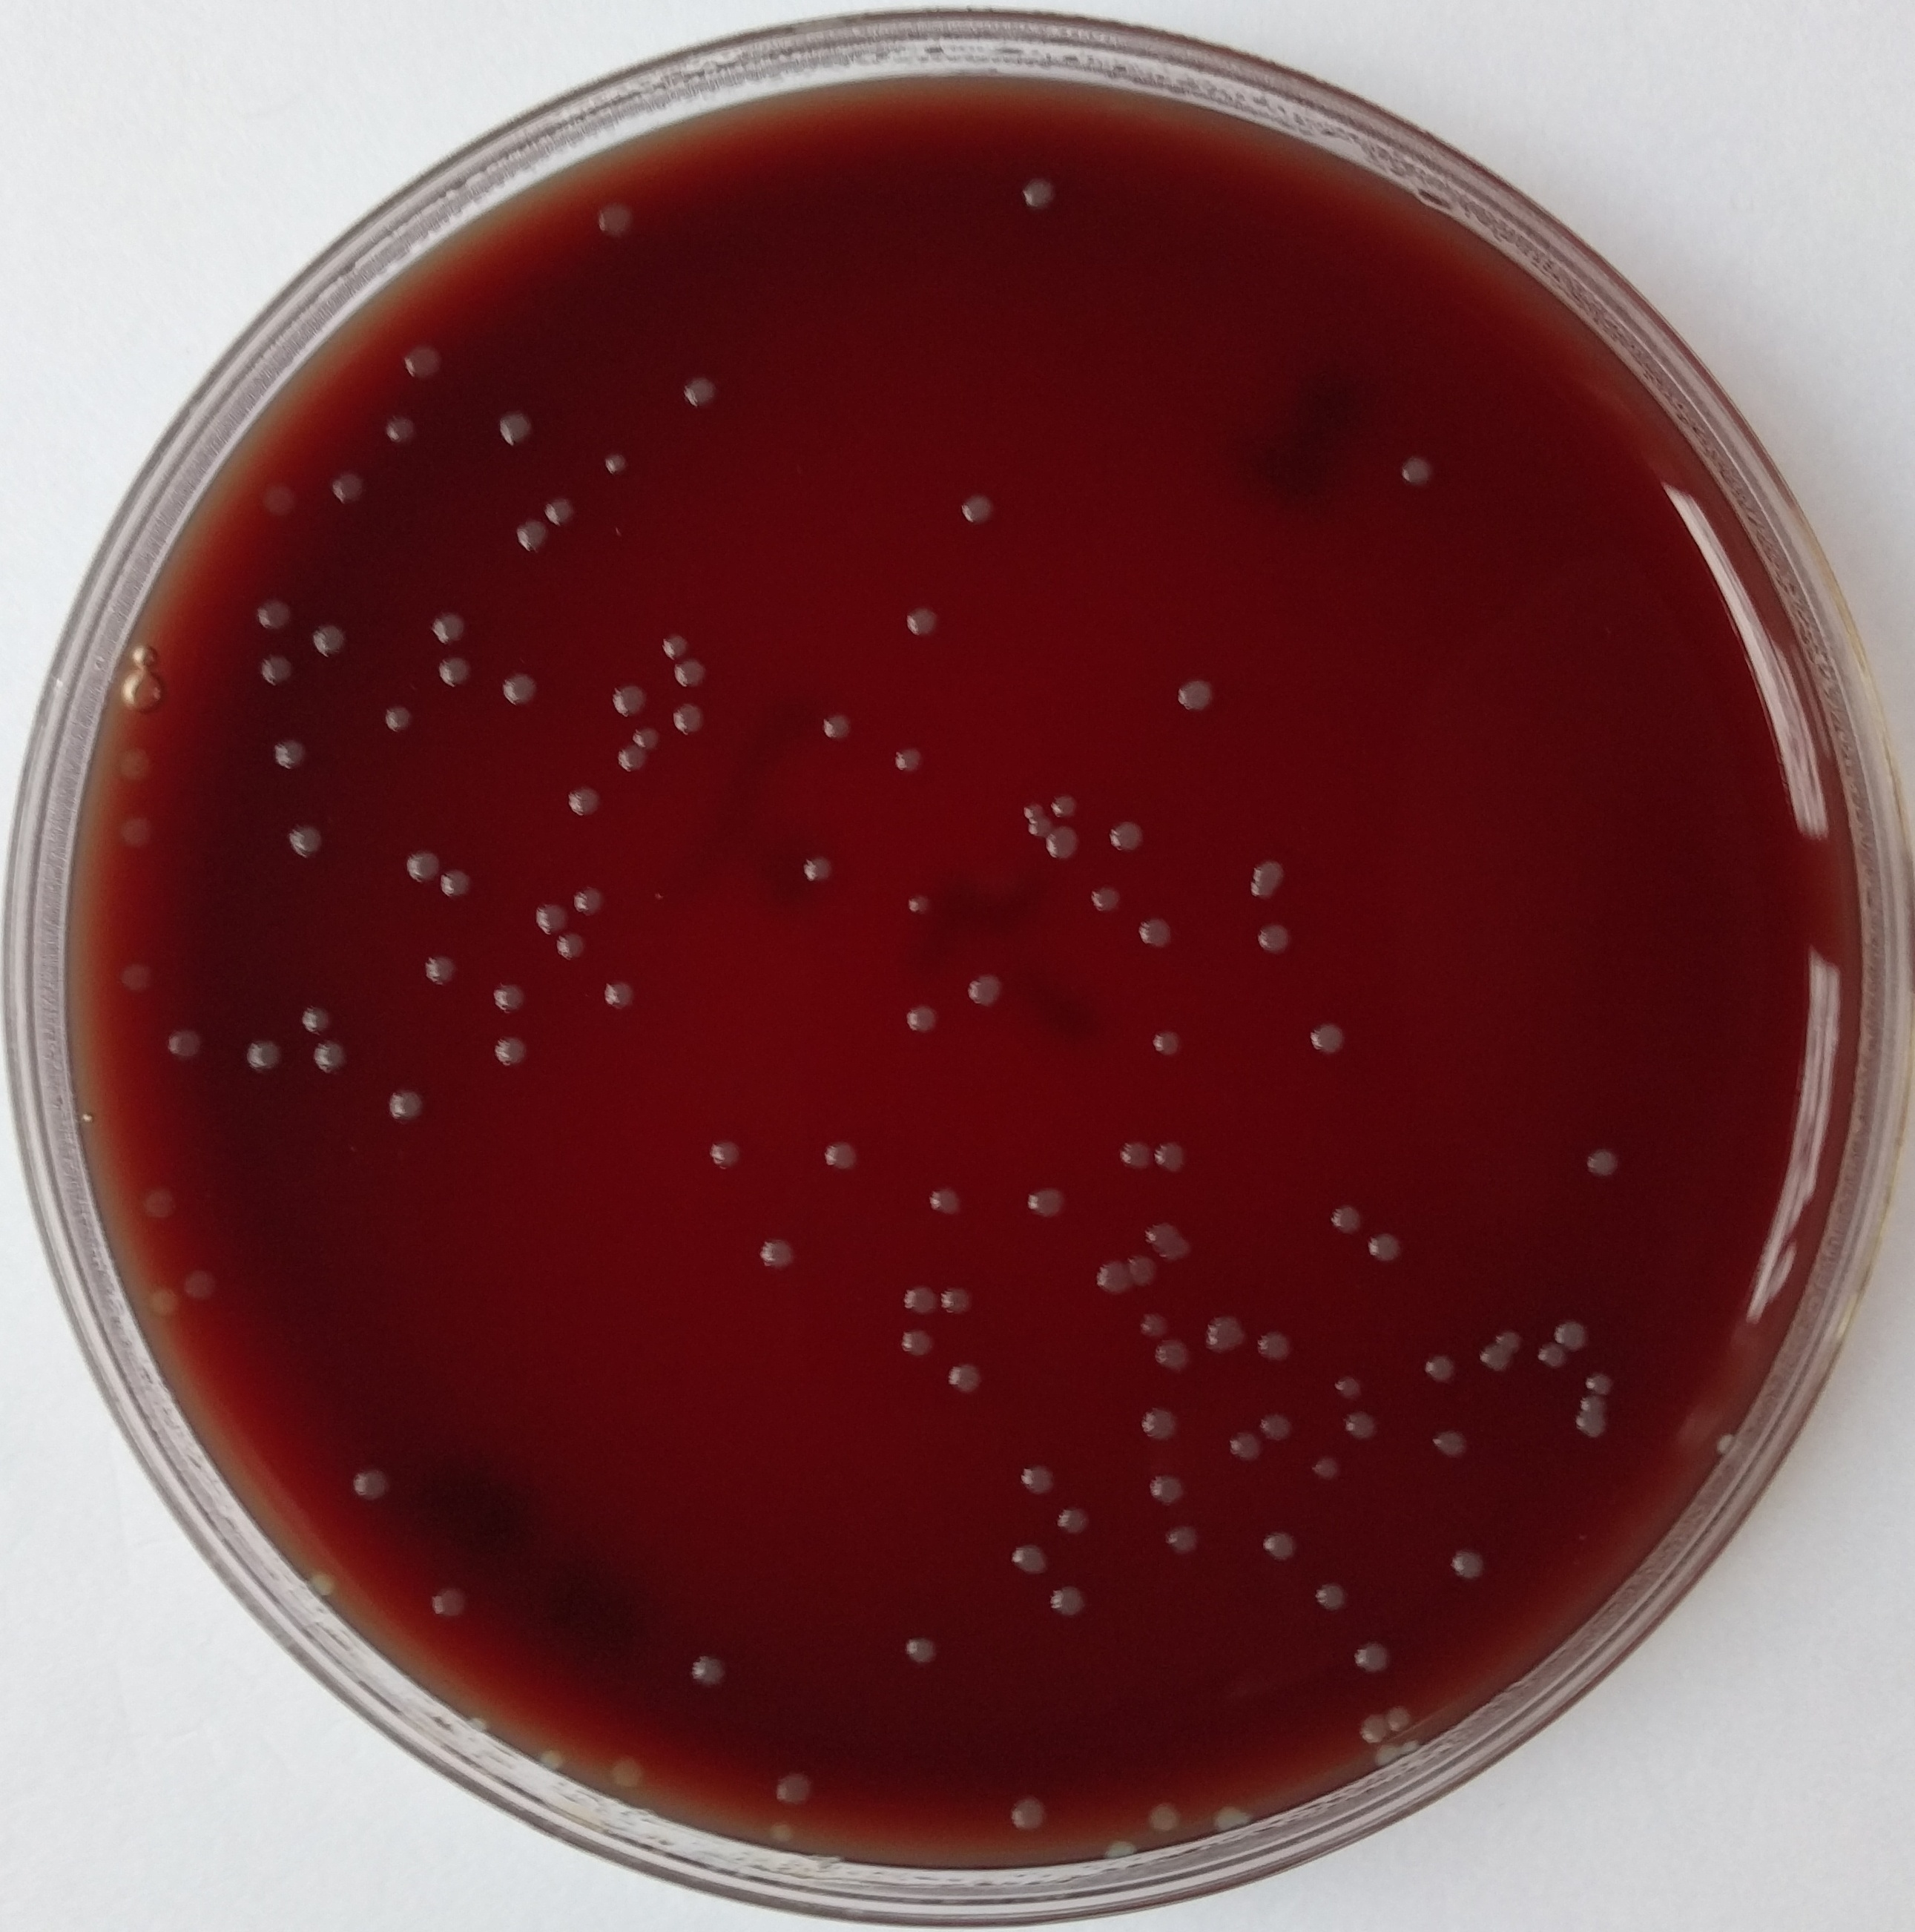sp15: (675, 366, 733, 428), (1140, 1217, 1203, 1273), (1236, 854, 1299, 906), (900, 594, 956, 652), (1243, 1318, 1298, 1376), (375, 1075, 433, 1127), (1201, 1306, 1250, 1367), (1000, 1781, 1054, 1836), (1021, 1176, 1075, 1229), (763, 1760, 817, 1811), (957, 959, 1007, 1015), (300, 617, 358, 664), (819, 1134, 872, 1185), (587, 198, 644, 245), (749, 1232, 808, 1276), (130, 1182, 181, 1232), (682, 1648, 733, 1699), (398, 338, 451, 387), (1084, 1254, 1136, 1303), (605, 1744, 658, 1793), (1389, 449, 1442, 498), (1168, 666, 1219, 715), (430, 650, 482, 698), (395, 843, 447, 891), (1105, 812, 1157, 859), (1010, 1455, 1063, 1502), (1420, 1424, 1475, 1469), (496, 666, 545, 715), (559, 780, 610, 827), (894, 1320, 945, 1367), (1347, 1634, 1398, 1681), (1015, 170, 1068, 216), (1003, 1534, 1056, 1580), (488, 403, 542, 447), (1354, 1220, 1408, 1264), (342, 1457, 391, 1504), (1136, 1397, 1184, 1446), (303, 1034, 354, 1080), (1299, 1019, 1354, 1061), (700, 1134, 756, 1175), (323, 463, 370, 510), (430, 863, 477, 910), (1256, 1522, 1303, 1569), (1442, 1543, 1489, 1590), (417, 948, 466, 994), (900, 996, 949, 1041), (426, 1578, 475, 1623), (1219, 1420, 1268, 1466), (524, 899, 575, 943), (1114, 1133, 1157, 1183), (1159, 1515, 1210, 1559), (1322, 1196, 1373, 1239), (160, 1026, 212, 1068), (891, 1276, 943, 1318), (1147, 1334, 1200, 1376), (933, 1278, 980, 1324), (114, 957, 163, 1001), (1131, 912, 1180, 955), (938, 1357, 987, 1401), (1140, 1466, 1191, 1508), (1338, 1403, 1389, 1445), (814, 705, 866, 745), (263, 733, 316, 773), (900, 1629, 943, 1676), (1142, 1793, 1189, 1837), (1415, 1346, 1463, 1390), (1552, 1311, 1599, 1355), (1150, 1133, 1192, 1182), (251, 475, 303, 514), (1082, 878, 1135, 917), (240, 1031, 286, 1075), (1328, 1366, 1371, 1411), (1143, 1022, 1191, 1064), (1577, 1140, 1624, 1182), (247, 593, 298, 631), (1208, 1799, 1259, 1837), (1564, 1403, 1608, 1446), (956, 486, 1001, 528), (603, 680, 649, 722), (284, 820, 330, 863), (1256, 917, 1301, 959), (428, 607, 475, 647), (924, 1180, 972, 1220), (1052, 1580, 1093, 1627), (375, 408, 424, 447), (289, 1001, 338, 1040), (1045, 820, 1082, 871), (135, 1283, 186, 1320), (254, 649, 298, 691), (116, 742, 158, 785), (510, 519, 556, 559), (488, 978, 533, 1019), (1122, 1247, 1163, 1292), (488, 1029, 535, 1068), (593, 977, 640, 1015), (1040, 785, 1089, 822), (117, 812, 160, 854), (535, 1739, 577, 1781), (668, 700, 708, 742), (568, 882, 610, 922), (610, 736, 652, 775), (1133, 1303, 1175, 1341), (1354, 1706, 1391, 1750), (1380, 1699, 1417, 1743), (668, 657, 712, 693), (551, 931, 594, 966), (891, 738, 924, 784), (798, 852, 836, 891), (1257, 1403, 1294, 1443), (623, 715, 665, 750), (1533, 1336, 1568, 1378), (375, 703, 419, 736), (1059, 1502, 1093, 1546), (1475, 1343, 1515, 1378), (1019, 812, 1061, 845), (594, 444, 631, 480), (1582, 1364, 1619, 1401), (654, 628, 693, 663), (184, 1262, 216, 1304), (298, 1564, 337, 1597), (1308, 1576, 1349, 1608), (1308, 1450, 1349, 1481), (542, 496, 577, 531), (1701, 1422, 1736, 1457), (1098, 1836, 1145, 1860), (1568, 1390, 1612, 1417), (901, 889, 940, 919), (1492, 1322, 1527, 1353), (459, 1708, 493, 1739), (761, 1820, 794, 1844), (1017, 798, 1045, 819)
